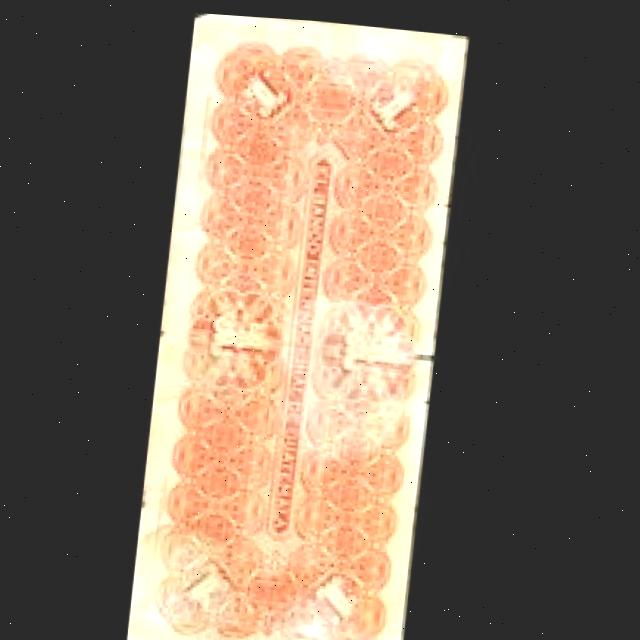banknote: (135, 9, 471, 640)
